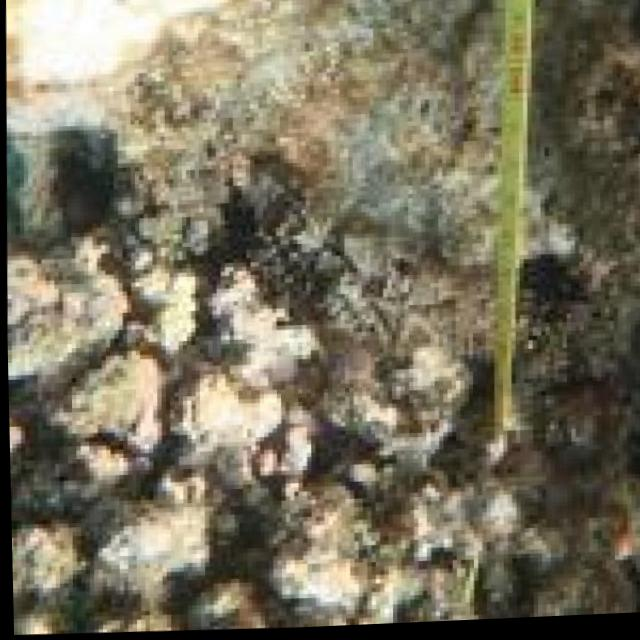Bleached Coral: (4, 228, 484, 640)
